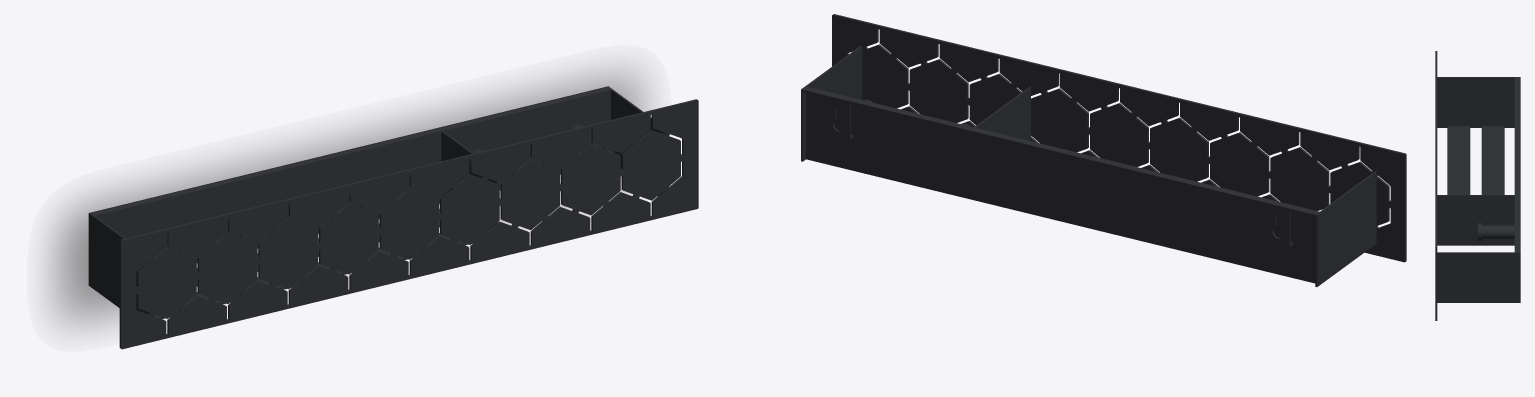
Rendered from bee-patron.f6dba10331.ar.glb.
3 renders of one model, left to right at view 1: azimuth 30°, elevation 25°; view 2: azimuth 150°, elevation 25°; view 3: azimuth 270°, elevation 25°, orthographic. The views are drawn at different scales.
Visible parts, largest first — view 1: NAUO1, object 2; view 2: NAUO1; view 3: NAUO1.
Boxes of the visible parts, x1,y1,x2,y2 form: NAUO1: [88, 86, 698, 349]; object 2: [49, 70, 648, 326]; NAUO1: [801, 14, 1406, 286]; NAUO1: [1435, 51, 1520, 320].
Bounding box in the file's own units: 0.58 × 0.17 × 0.092.
2 materials, 1 textured.
